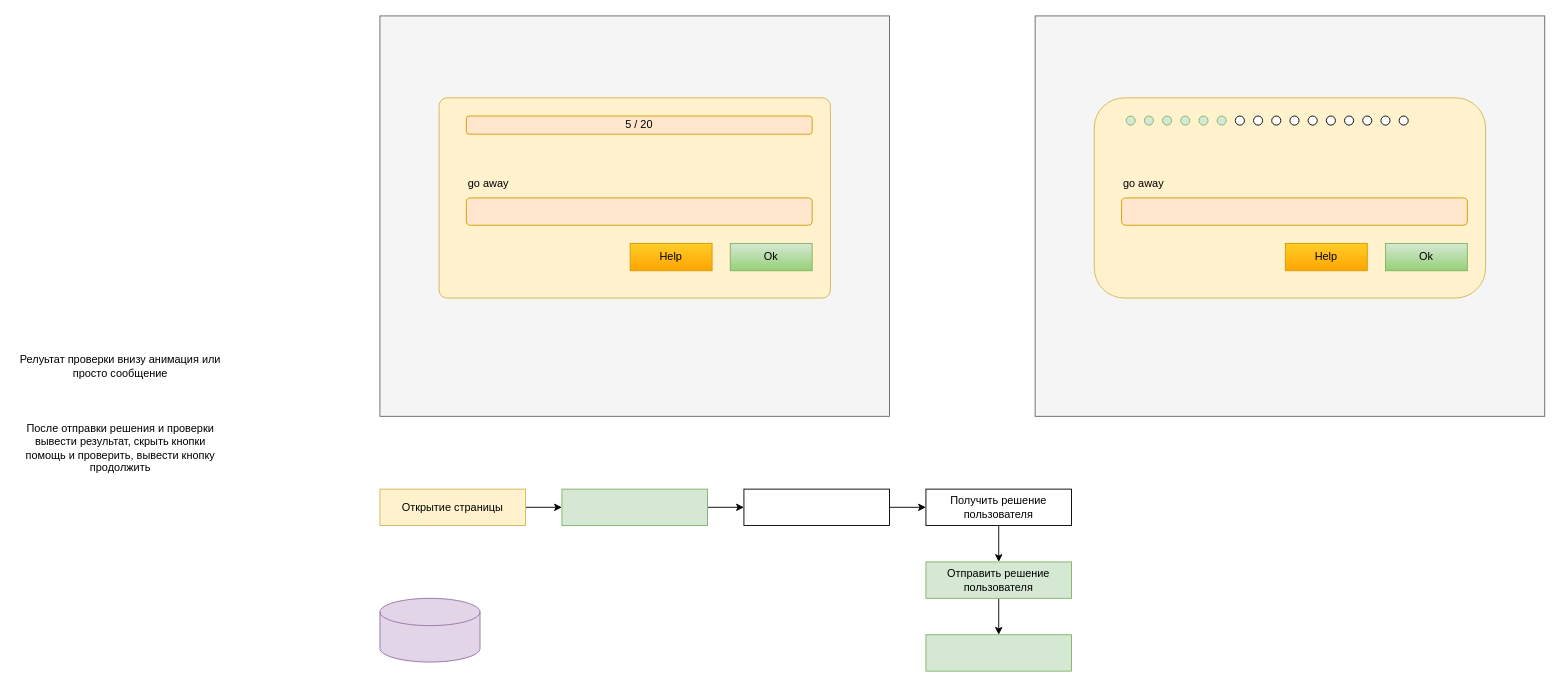
The diagram is 1561 pixels wide and 687 high, and some of its shapes have lost their labels. The shapes that lost their labels are listed below. From the top down, each one's centre as x and y in pixels, then its label:
At (634,507): "Получить вопрос".
At (816,507): "Отрисовать объект".
At (429,629): "Сервис".
At (998,652): "Получить результат".
